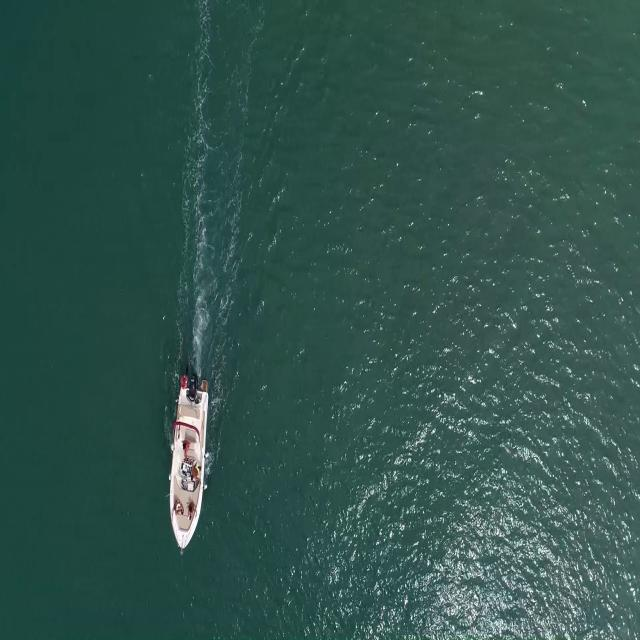boat: (166, 388, 210, 555)
life_buoy: (179, 376, 188, 389)
person: (170, 499, 183, 523), (190, 465, 204, 487), (180, 437, 190, 461), (187, 503, 196, 521)
